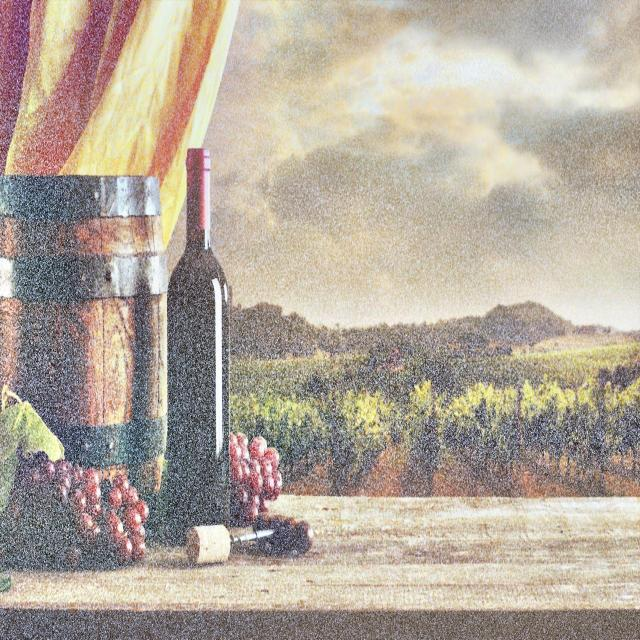cork: (183, 518, 234, 575)
